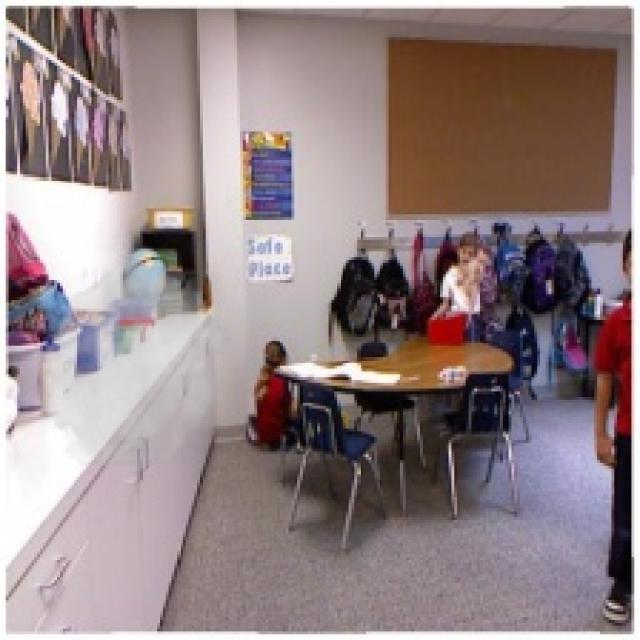smoke: (32, 260, 232, 466)
